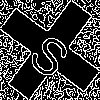S: (25, 25, 80, 81)
